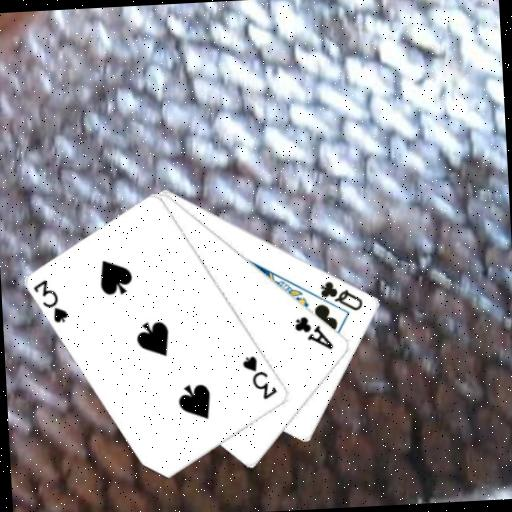3S: (30, 276, 71, 327), (239, 352, 280, 402)
AC: (292, 312, 336, 353)
QC: (317, 276, 366, 315)
